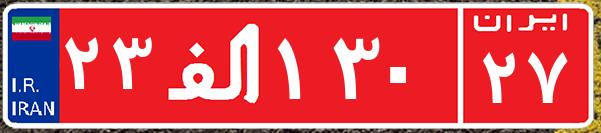0: (385, 28, 445, 110)
1: (273, 28, 330, 110)
2: (57, 26, 110, 107), (475, 38, 525, 113)
3: (330, 28, 385, 110), (110, 28, 158, 105)
7: (525, 38, 570, 115)
الف: (158, 15, 273, 115)
